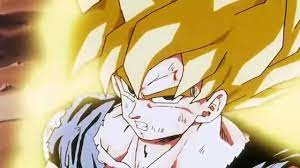Songoku: (110, 16, 240, 145)
